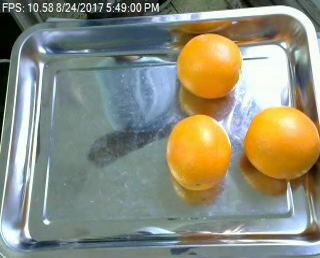Orange: (243, 106, 318, 181), (165, 113, 232, 192), (176, 34, 242, 98)
